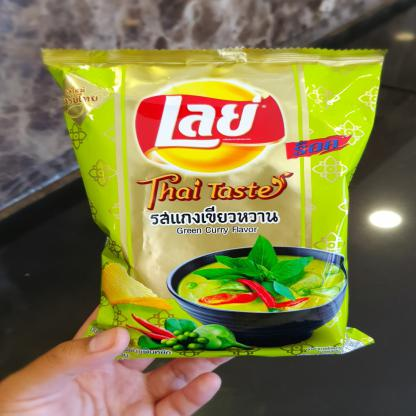potatochip: (42, 45, 385, 356)
